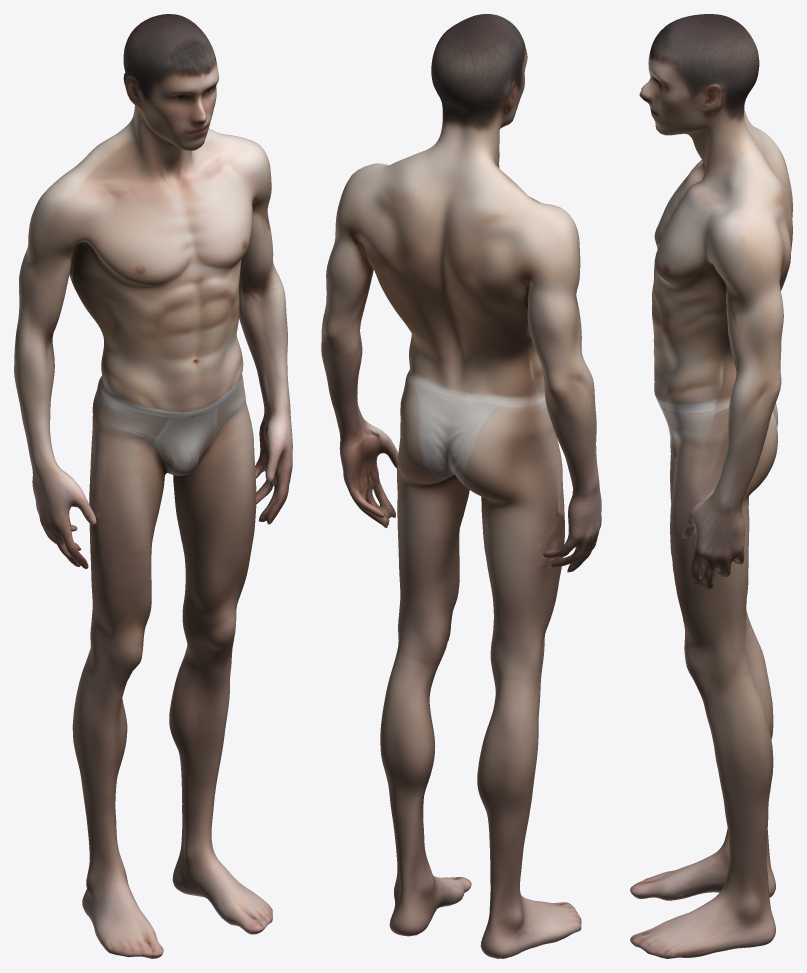
File: ecto.glb
3 renders of one model, left to right at view 1: azimuth 30°, elevation 25°; view 2: azimuth 150°, elevation 25°; view 3: azimuth 270°, elevation 25°, orthographic.
Bounding box in the file's own units: 0.6176 × 2 × 0.3262.
1 material, 1 textured.
